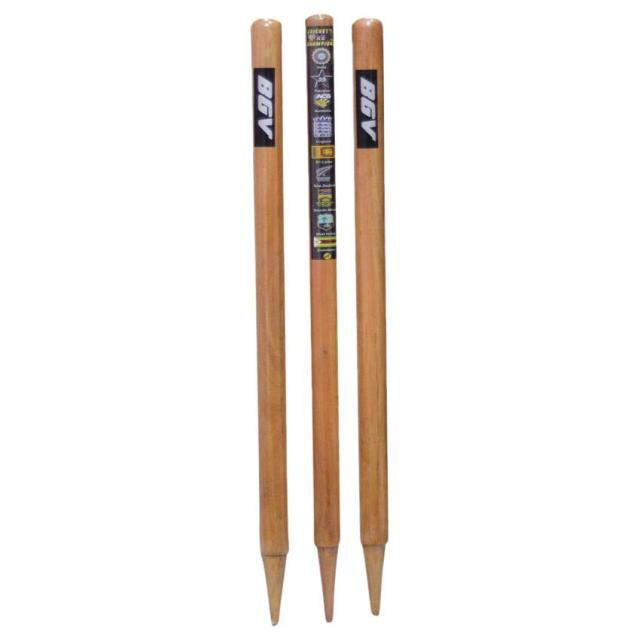stump: (249, 16, 383, 622)
